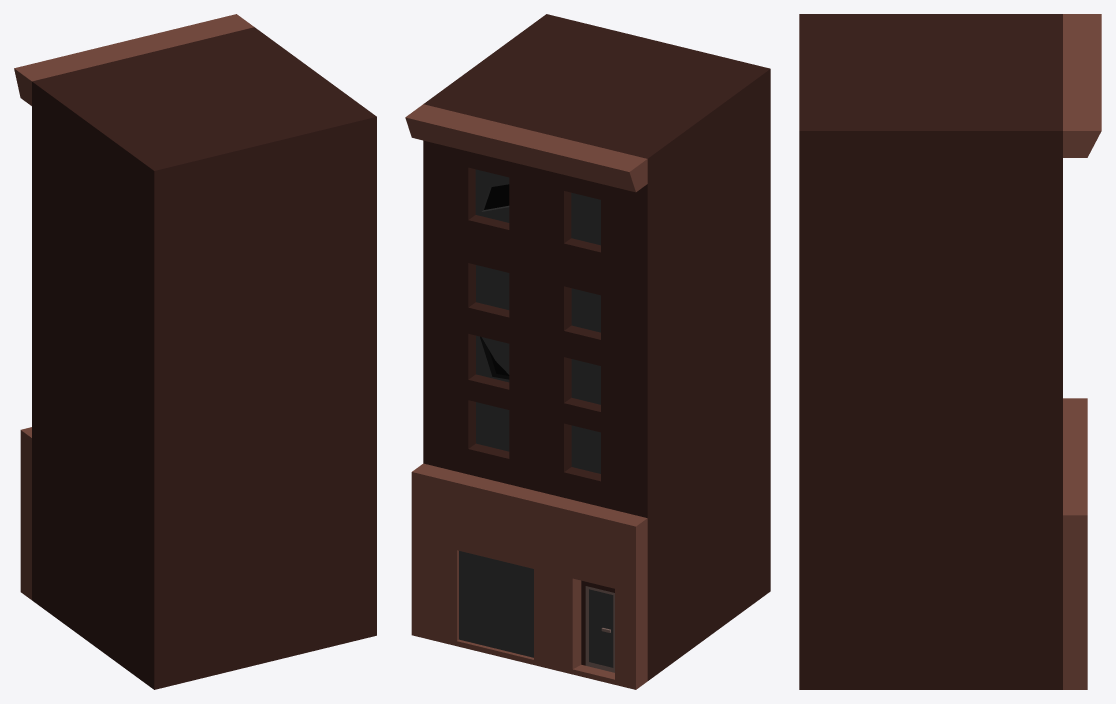
Rendered from Building small.obj.
The picture shows the model from 3 angles, left to right: view 1: azimuth 30°, elevation 25°; view 2: azimuth 150°, elevation 25°; view 3: azimuth 270°, elevation 25°; orthographic projection. The views are drawn at different scales.
Parts seen in each view (by area): view 1: pCube4; view 2: pCube4; view 3: pCube4.
Part boxes in pixels (bbox=[...]): pCube4: bbox=[14, 14, 376, 689]; pCube4: bbox=[405, 14, 770, 689]; pCube4: bbox=[799, 14, 1101, 689].
Size of the model in its own units: 11.29 by 25.16 by 12.33.
